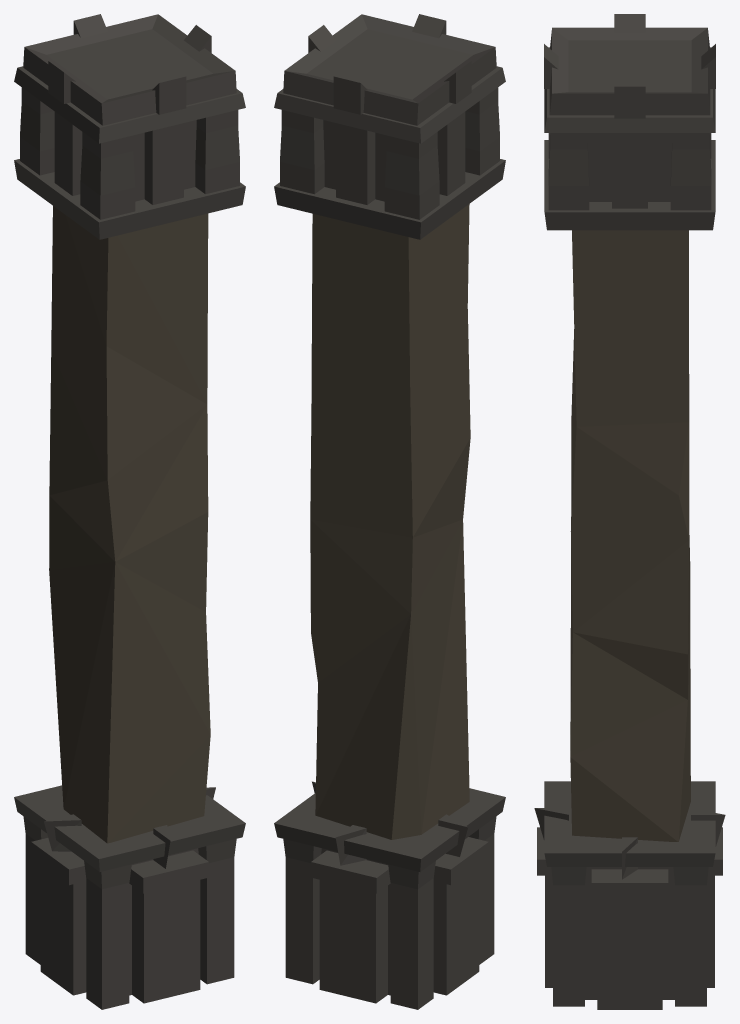
The model's file is Pillar_1_LOD.fbx.
3 views of the same model, side by side, from view 1: azimuth 30°, elevation 25°; view 2: azimuth 150°, elevation 25°; view 3: azimuth 270°, elevation 25° (orthographic).
Visible parts, largest first — view 1: polySurface1302; view 2: polySurface1302; view 3: polySurface1302.
Part boxes in pixels (<box>): polySurface1302: <box>14,14,245,1009</box>; polySurface1302: <box>274,14,505,1009</box>; polySurface1302: <box>534,14,725,1009</box>.
Size of the model in its own units: 2.04 by 10.86 by 2.04.
